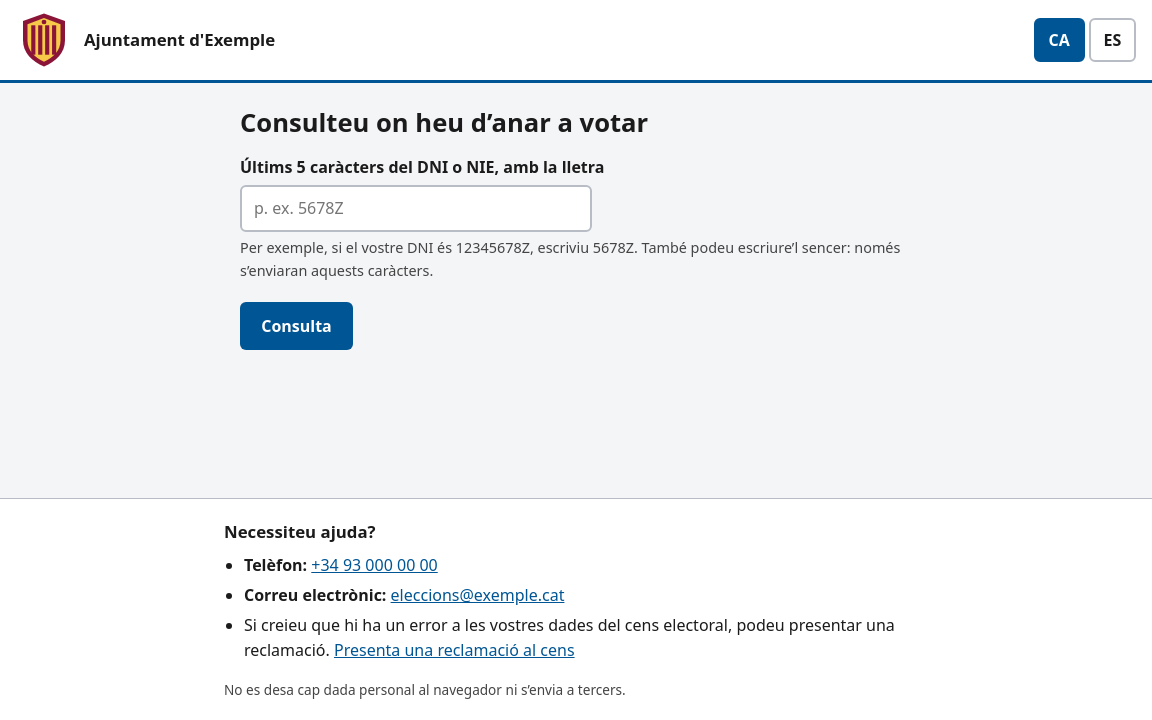
Test: flux complet de consulta › enviar el camp buit mostra error i no envia res
Type "12345678Z" into the field labelled "Últims 5 caràcters del DNI o NIE, amb la lletra" at (416,209), box x1=240 y1=185 x2=592 y2=232
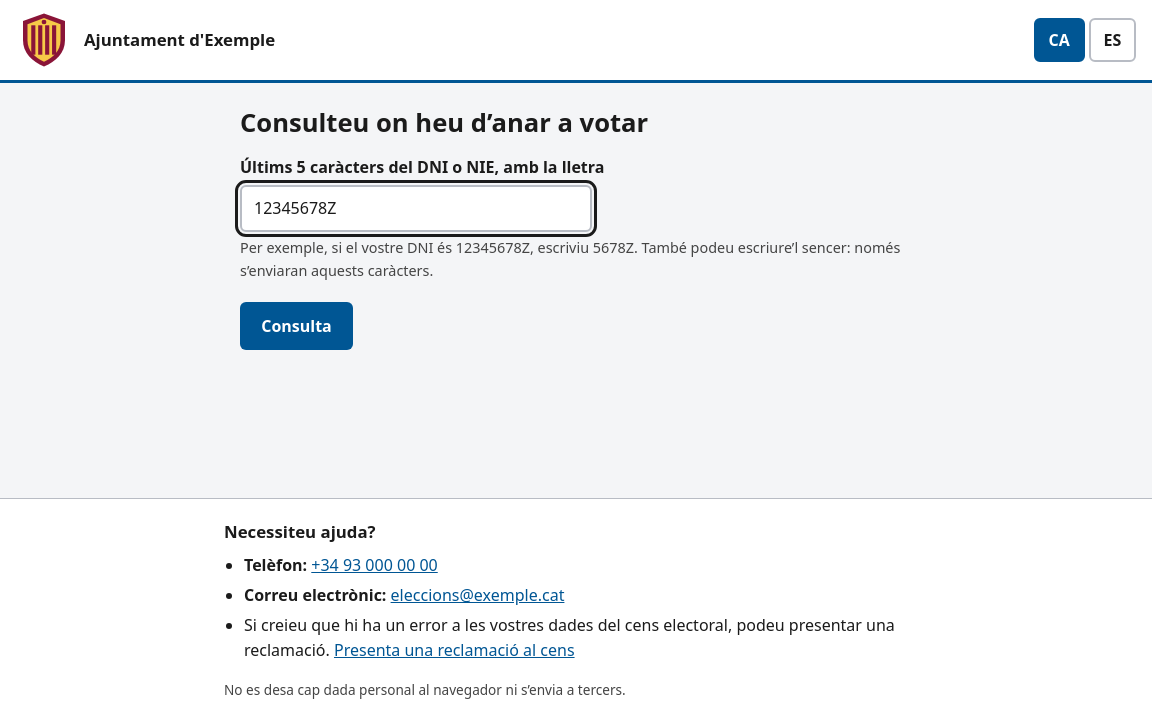
Click the button "Consulta" at (296,326), box x1=240 y1=302 x2=353 y2=350
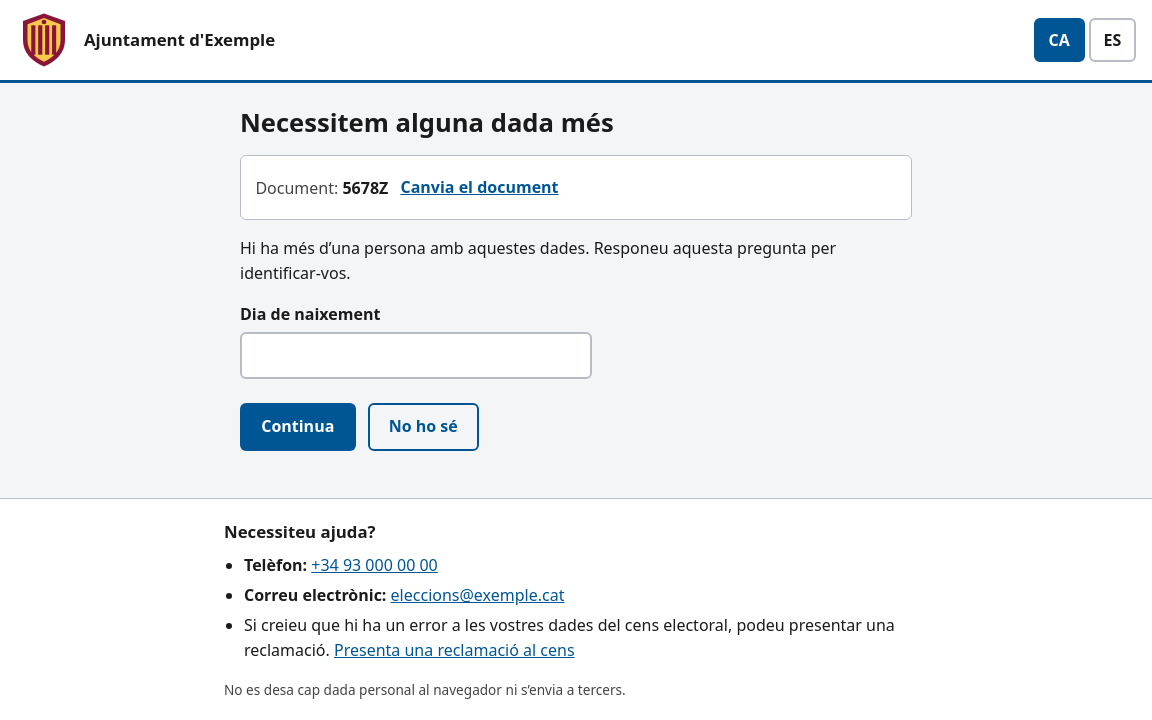
Result: the field labelled "Dia de naixement" is shown at x1=240 y1=332 x2=592 y2=379
Click the button "Continua" at (298,426), box x1=240 y1=402 x2=356 y2=450
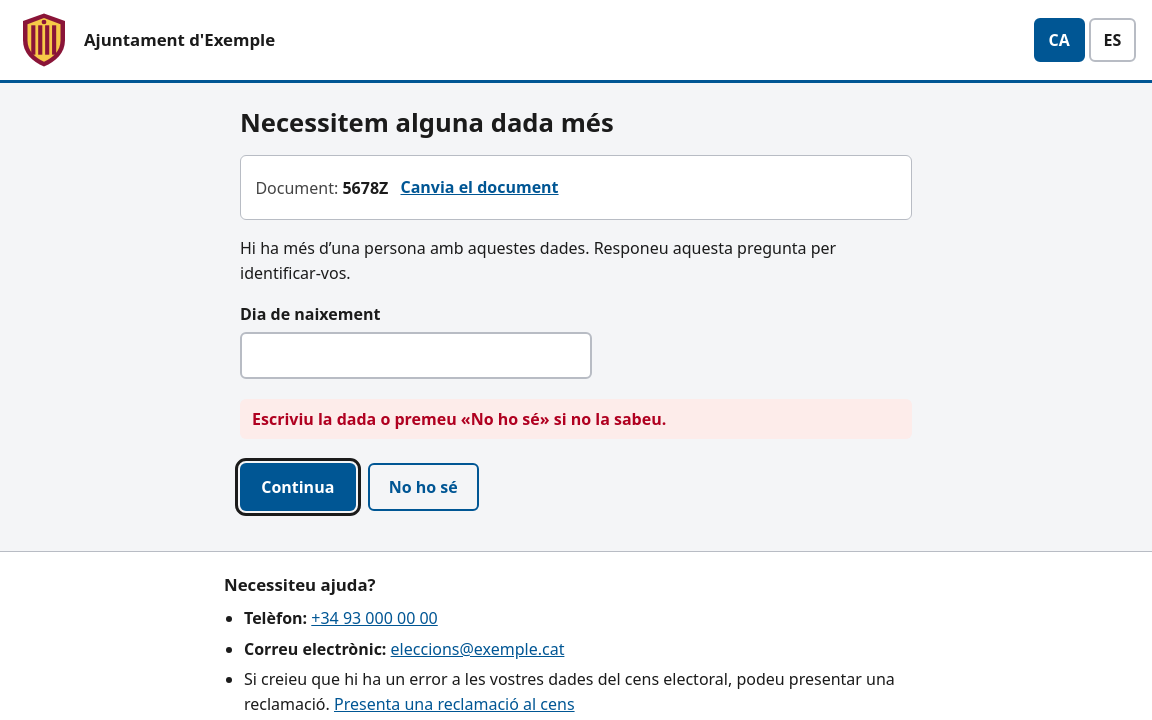
Result: the message shows "No ho sé" at x1=252 y1=408 x2=666 y2=430
